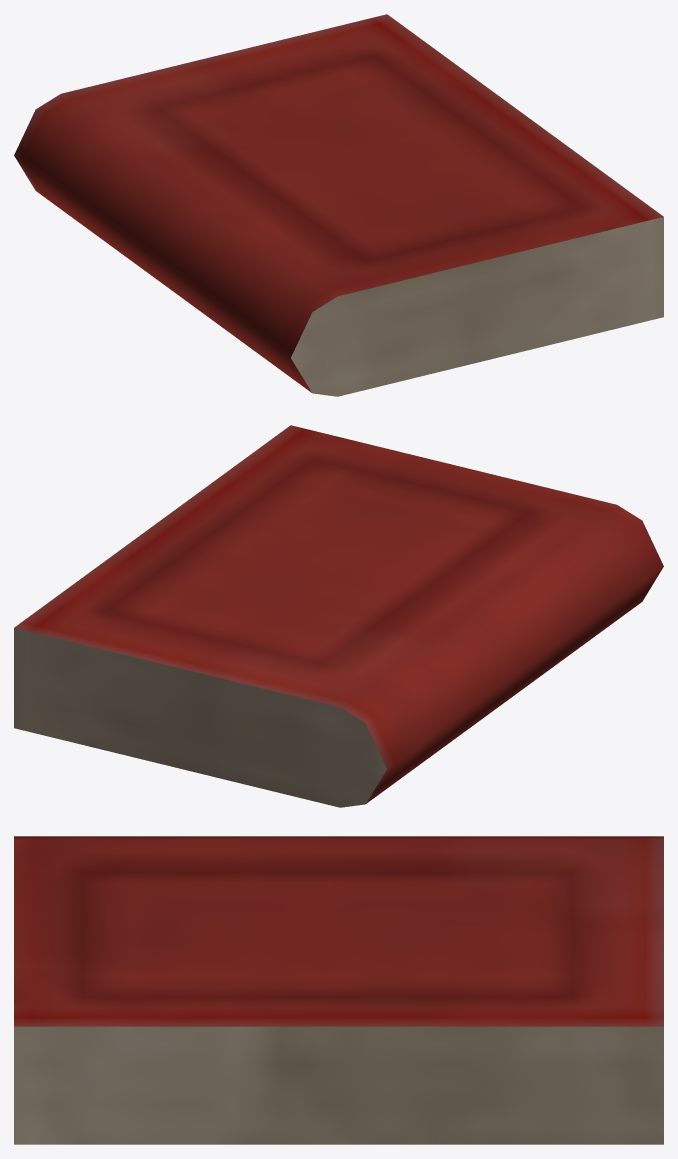
File: book_2.FBX
The picture shows the model from 3 angles, top to bottom: view 1: azimuth 30°, elevation 25°; view 2: azimuth 150°, elevation 25°; view 3: azimuth 270°, elevation 25°; orthographic projection. The views are drawn at different scales.
Visible parts, largest first — view 1: Object124; view 2: Object124; view 3: Object124.
Boxes of the visible parts, box(x1,y1,x2,y2) form: Object124: box(14, 14, 663, 396); Object124: box(14, 425, 663, 807); Object124: box(14, 836, 663, 1144).
Bounding box in the file's own units: 0.168 × 0.0432 × 0.2158.
